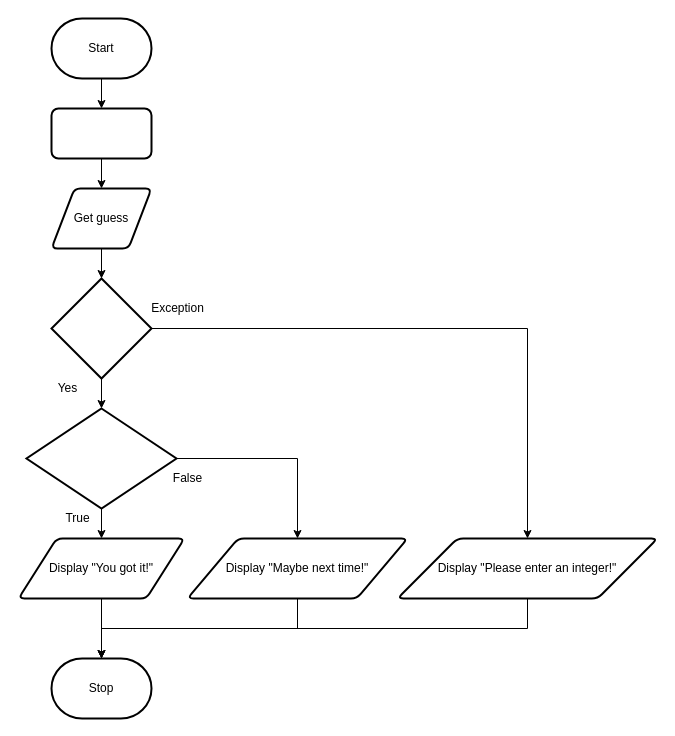
This 675x736 diagram has some shape labels left out. The shapes that lost their labels are listed below. From the top down, each one's centre as x and y in pixels, then its label:
(x=101, y=133): Set chosen_number <- randint(0-9)
(x=101, y=328): Try
(x=101, y=458): IF guess == chosen_number
